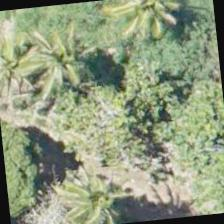Kelapa_Sawit: (19, 14, 118, 113), (44, 147, 142, 223), (0, 8, 62, 105), (98, 0, 195, 60)
